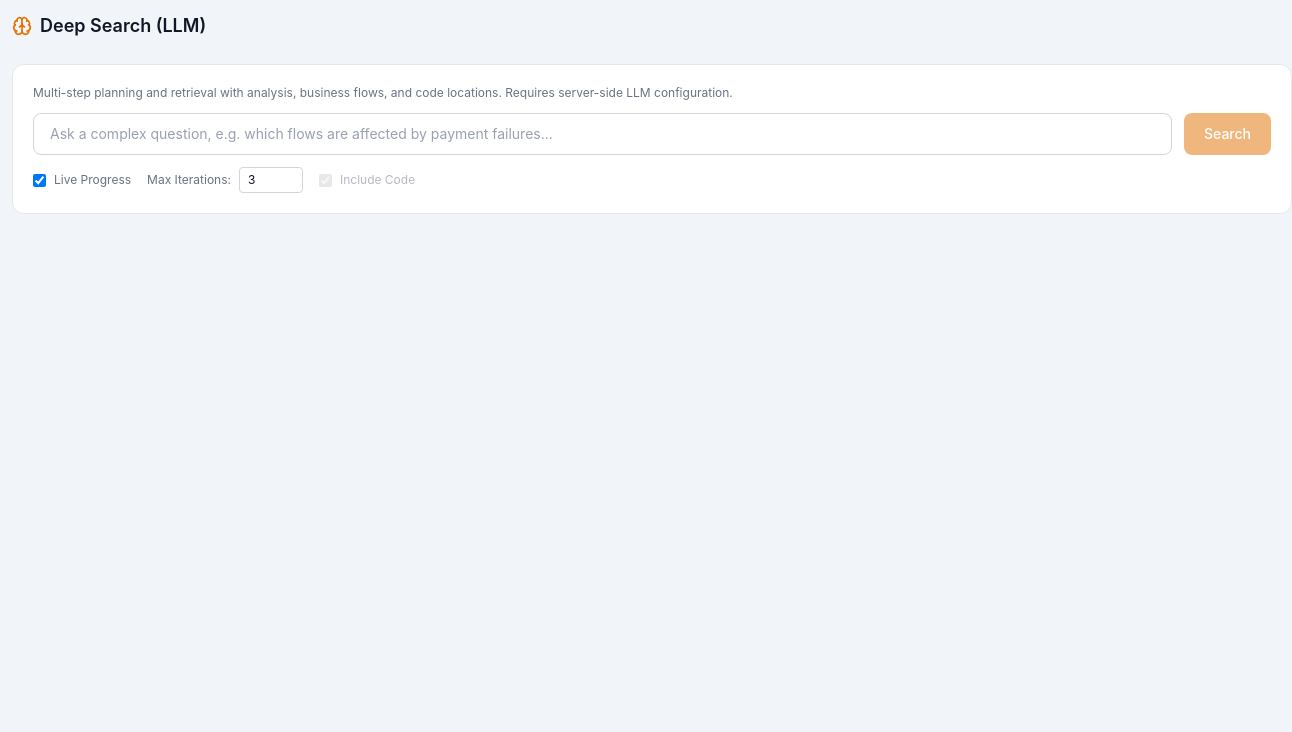
DeepSearchSection › exposes search trace toggle aria-expanded
Click the checkbox labelled "Live Progress": point(40, 180) [33,174,46,186]
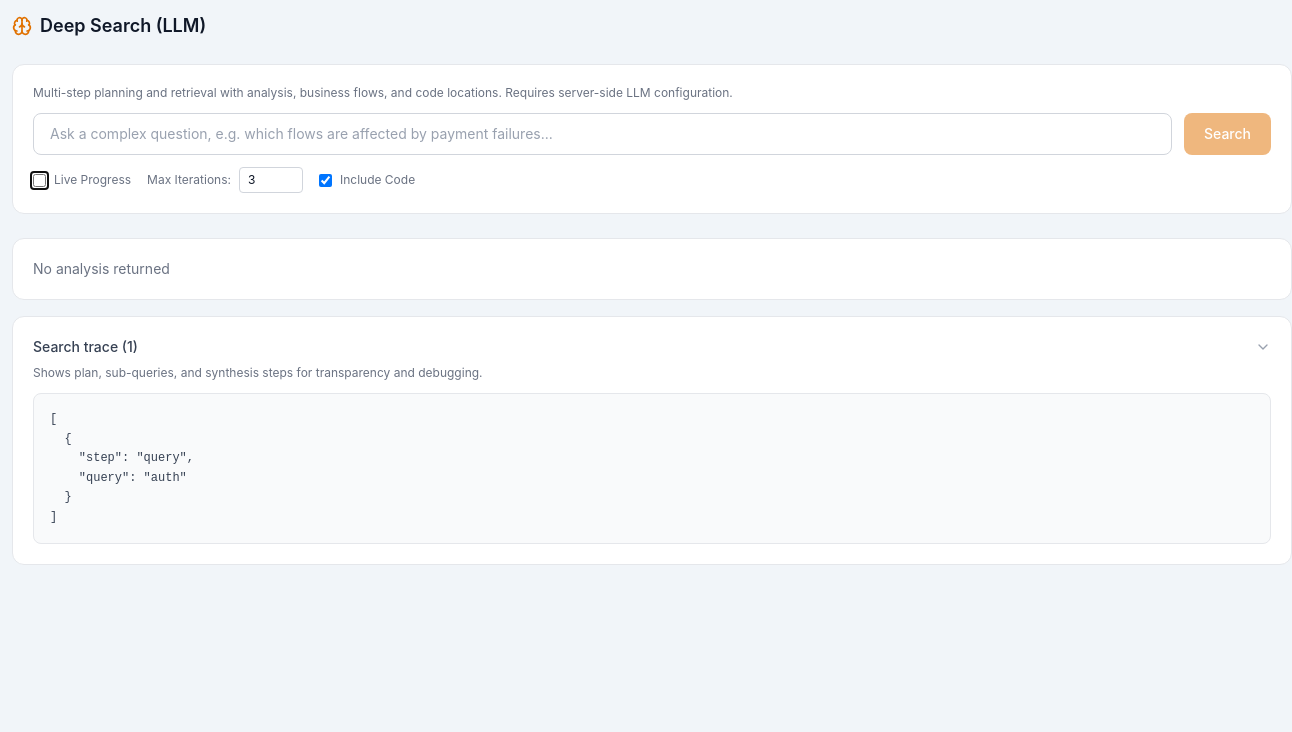
Click the button "Search trace (1)": point(76, 346) [33,337,1271,357]
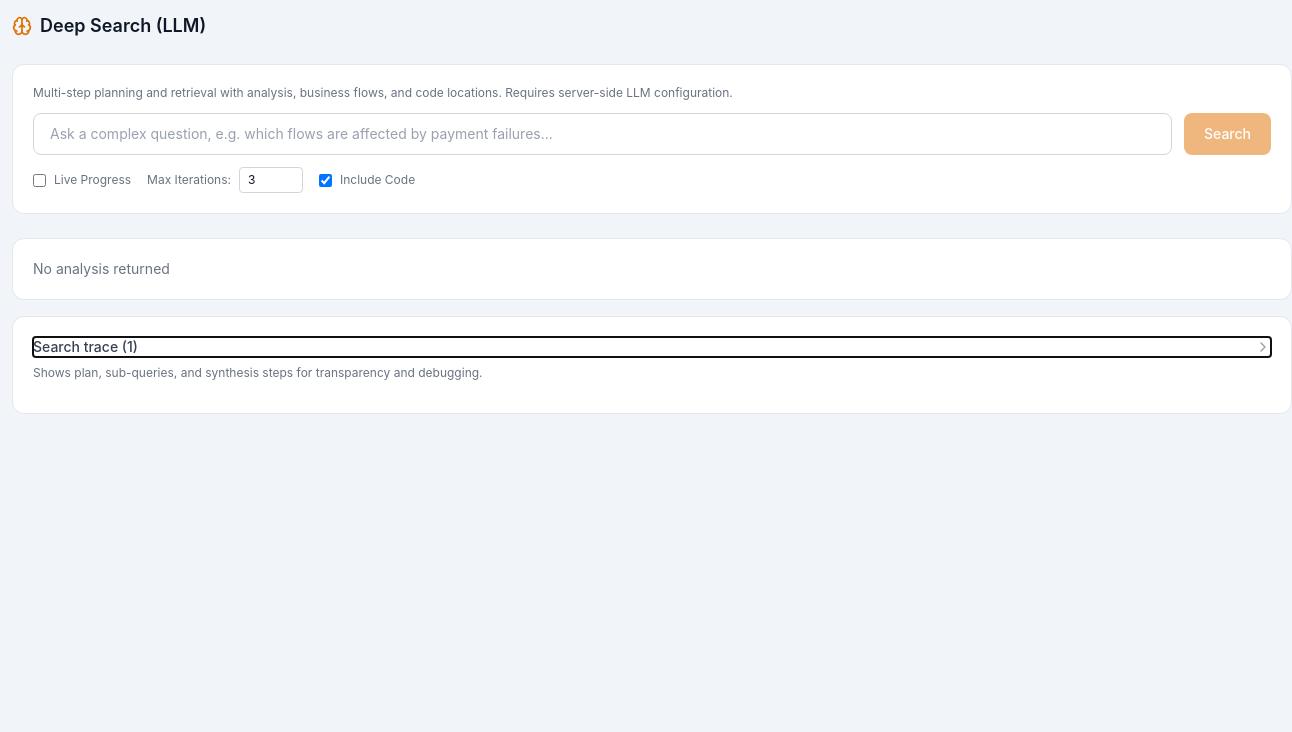
expect the button "Search trace (1)" is collapsed: met, box [33,337,1271,357]
